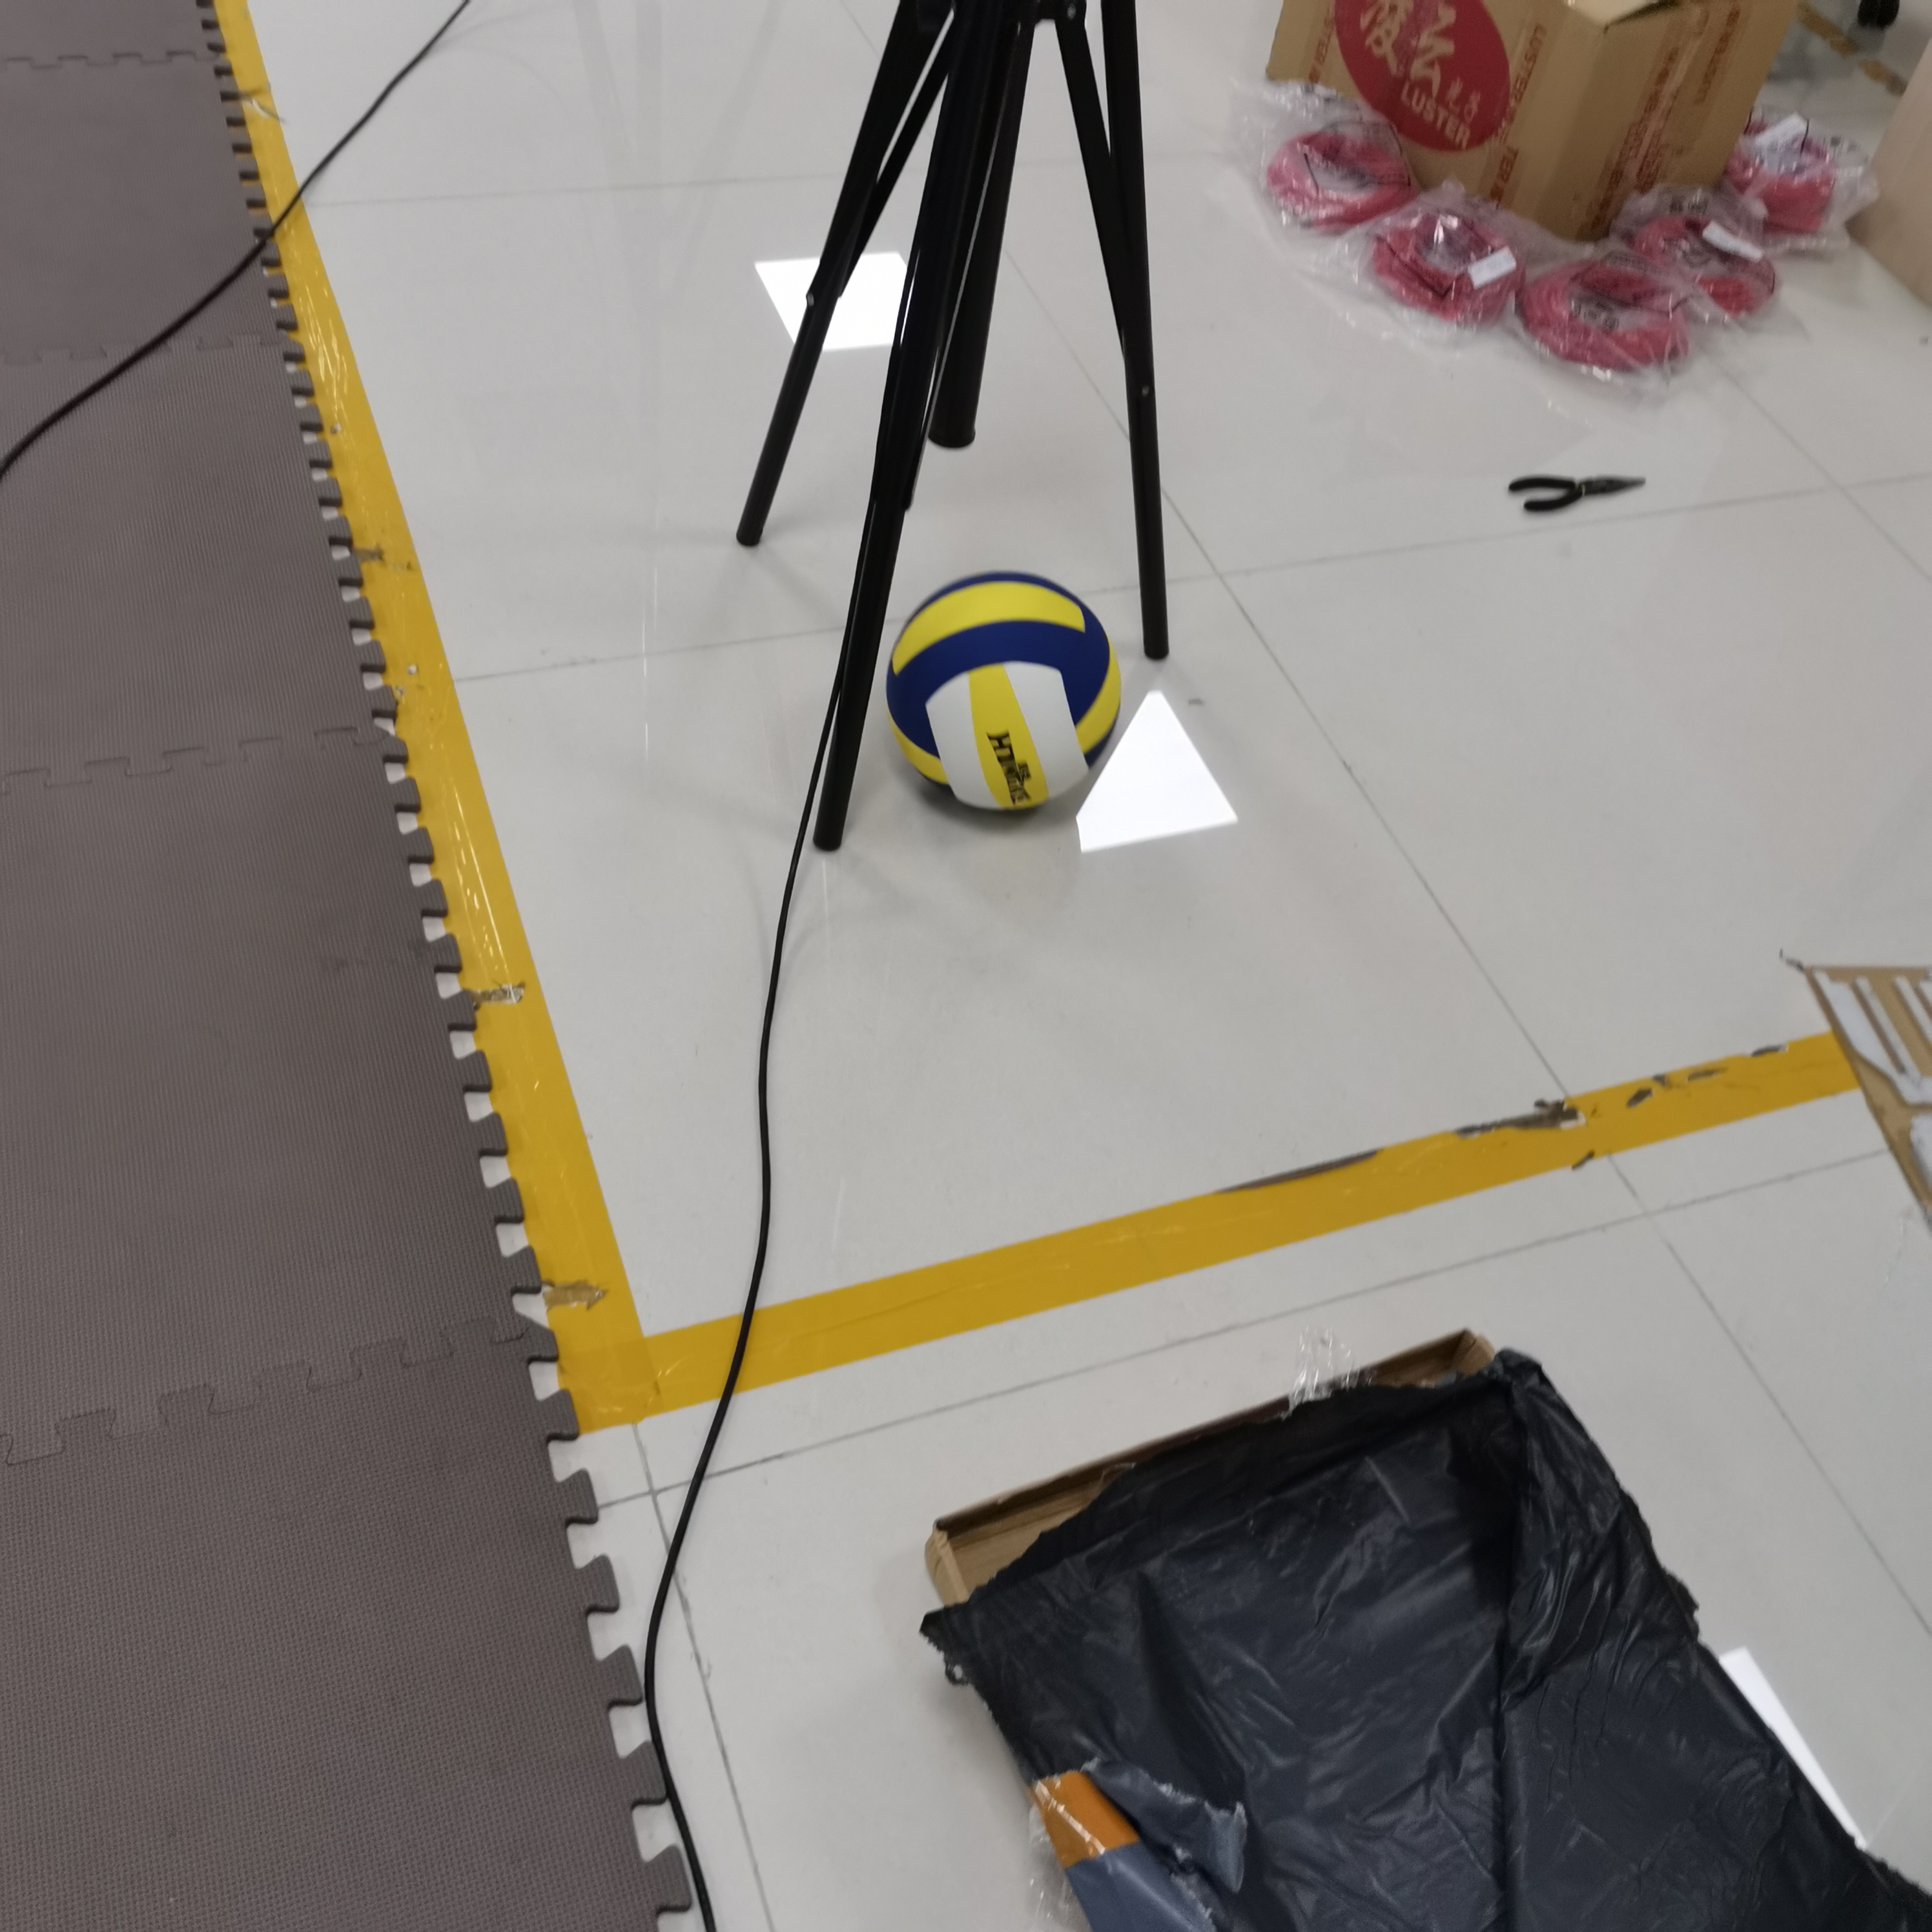volleyball: (885, 575, 1120, 824)
